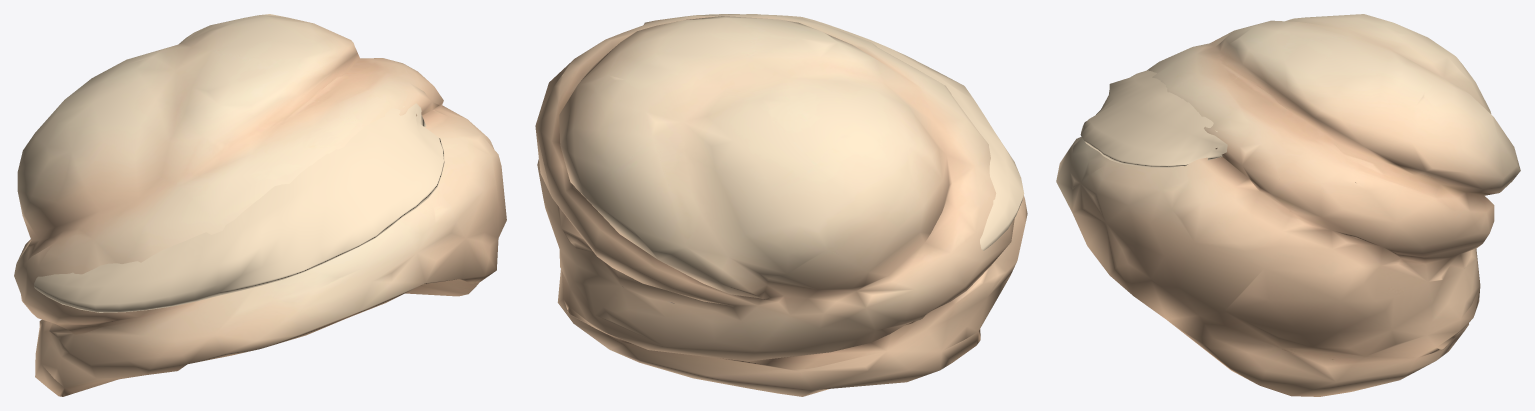
File: spa-head.glb
3 views of the same model, side by side, from view 1: azimuth 30°, elevation 25°; view 2: azimuth 150°, elevation 25°; view 3: azimuth 270°, elevation 25° (orthographic). The views are drawn at different scales.
Visible parts, largest first — view 1: tripo_node_f2249bcf; view 2: tripo_node_f2249bcf; view 3: tripo_node_f2249bcf.
Boxes of the visible parts, x1=… form: tripo_node_f2249bcf: x1=14, y1=14, x2=506, y2=396; tripo_node_f2249bcf: x1=535, y1=14, x2=1027, y2=396; tripo_node_f2249bcf: x1=1056, y1=14, x2=1520, y2=396.
Bounding box in the file's own units: 0.6182 × 0.4008 × 0.5789.
Materials: 1 (1 with a texture image).
